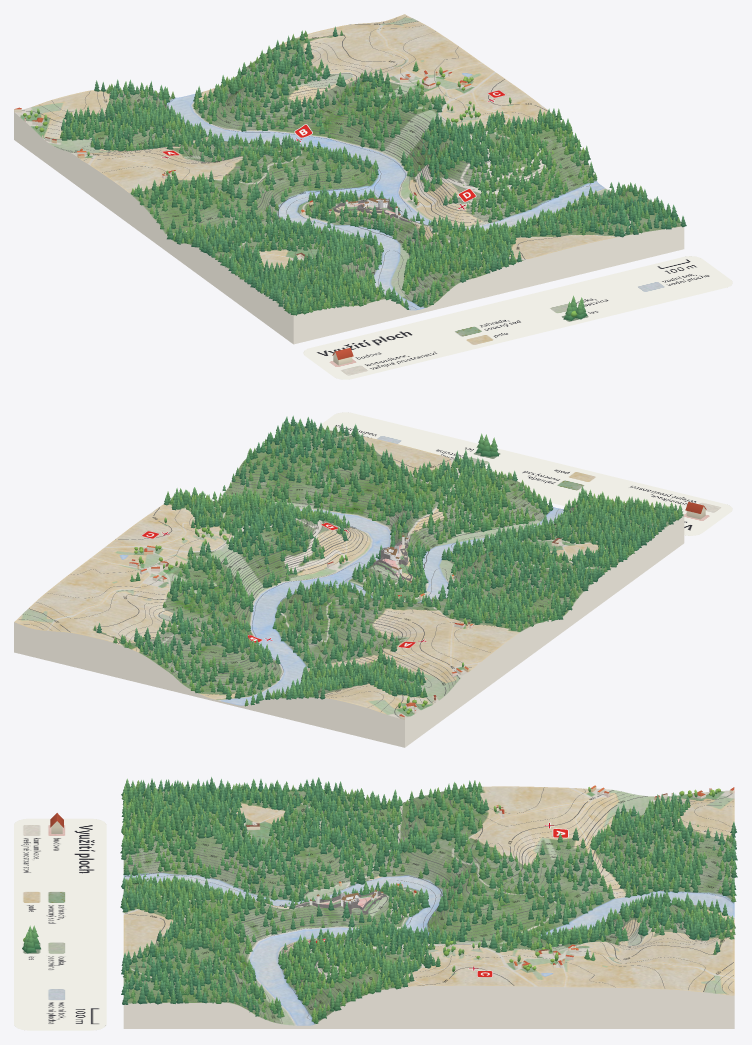
Rendered from Zvikov_sada2_otazka1.glb.
3 renders of one model, top to bottom at view 1: azimuth 30°, elevation 25°; view 2: azimuth 150°, elevation 25°; view 3: azimuth 270°, elevation 25°, orthographic. The views are drawn at different scales.
Parts seen in each view (by area): view 1: DMR_1953, Zvikov_stromy_body_SMO5, legenda_panel, vrstevnice, Zvikov_SMO5_budovy, Node0, legenda_objekty; view 2: DMR_1953, Zvikov_stromy_body_SMO5, legenda_panel, vrstevnice, Zvikov_SMO5_budovy, Node0, legenda_objekty, popisky; view 3: DMR_1953, Zvikov_stromy_body_SMO5, legenda_panel, vrstevnice, Zvikov_SMO5_budovy, Node0, popisky, legenda_objekty.
Boxes of the visible parts, x1,y1,x2,y2 form: DMR_1953: (14, 14, 684, 344); Zvikov_stromy_body_SMO5: (23, 26, 686, 315); legenda_panel: (303, 256, 732, 379); vrstevnice: (22, 16, 678, 309); Zvikov_SMO5_budovy: (14, 70, 471, 258); Node0: (328, 197, 411, 222); legenda_objekty: (332, 295, 587, 365); DMR_1953: (14, 425, 684, 747); Zvikov_stromy_body_SMO5: (93, 415, 683, 714); legenda_panel: (316, 412, 732, 535); vrstevnice: (19, 430, 624, 716); Zvikov_SMO5_budovy: (129, 538, 561, 719); Node0: (373, 535, 411, 583); legenda_objekty: (476, 433, 706, 519); popisky: (54, 438, 570, 692); DMR_1953: (123, 786, 734, 1028); Zvikov_stromy_body_SMO5: (120, 777, 737, 1023); legenda_panel: (14, 818, 106, 1030); vrstevnice: (124, 787, 733, 1023); Zvikov_SMO5_budovy: (246, 785, 734, 968); Node0: (295, 889, 386, 914); popisky: (133, 794, 724, 1018); legenda_objekty: (22, 813, 63, 953).
Bounding box in the file's own units: 1491 × 188 × 2151.
Materials: 11 (7 with a texture image).
